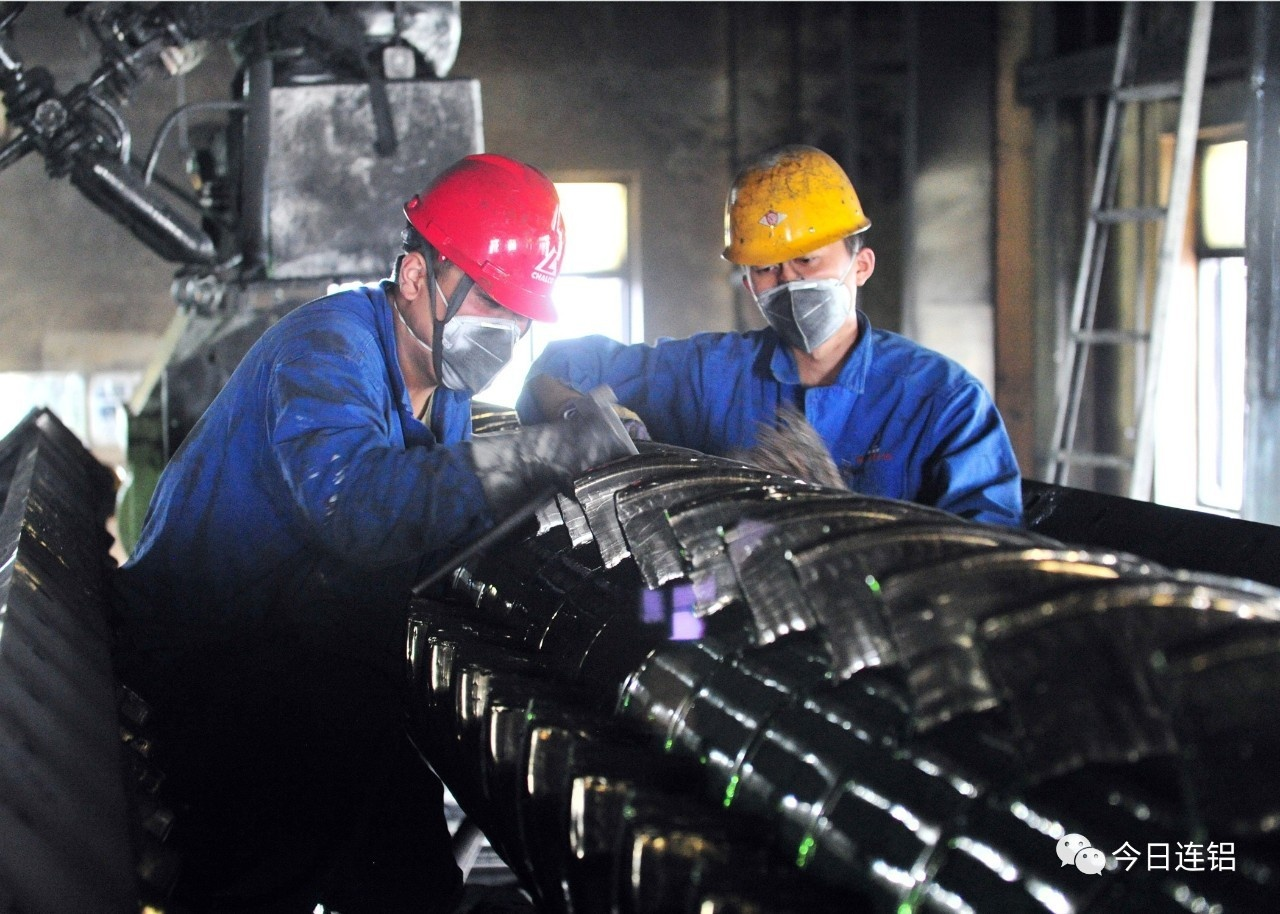red: (392, 149, 573, 396)
yellow: (716, 137, 874, 356)
